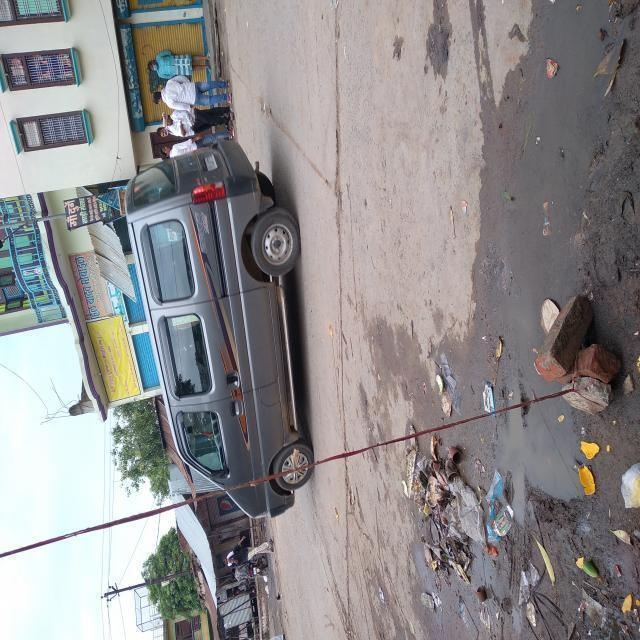Car: (106, 135, 320, 522)
